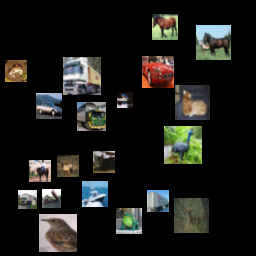automobile: (142, 56, 174, 88), (36, 93, 62, 119)
bird: (164, 126, 202, 164), (39, 214, 77, 252), (117, 92, 133, 108)
cat: (175, 85, 210, 120), (93, 151, 115, 173)
deer: (174, 198, 209, 233), (57, 155, 79, 177)
frog: (116, 208, 142, 234), (5, 60, 27, 82)
ship: (82, 181, 108, 207)
